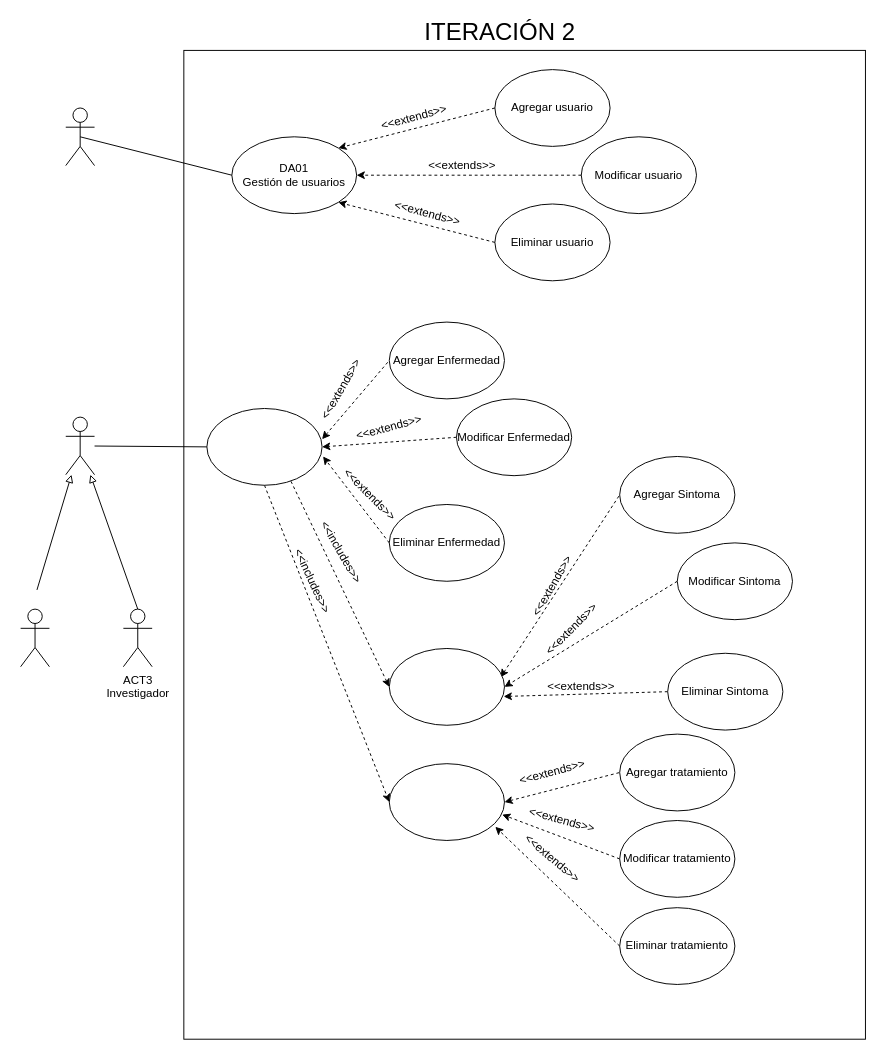
Image size: 882x1056. Some labels were removed from this diagram. Here are the shapes that lost their labels. From the top down, the centre of each, then its label:
(x=80, y=136): ACT4 Administrador
(x=80, y=445): Profesional de la salud
(x=264, y=446): DA02 Gestión de Enfermedades
(x=34, y=637): ACT2 Médico
(x=446, y=686): DA02-1 Gestión de Síntomas
(x=446, y=801): DA02-2 Gestión de tratamientos
